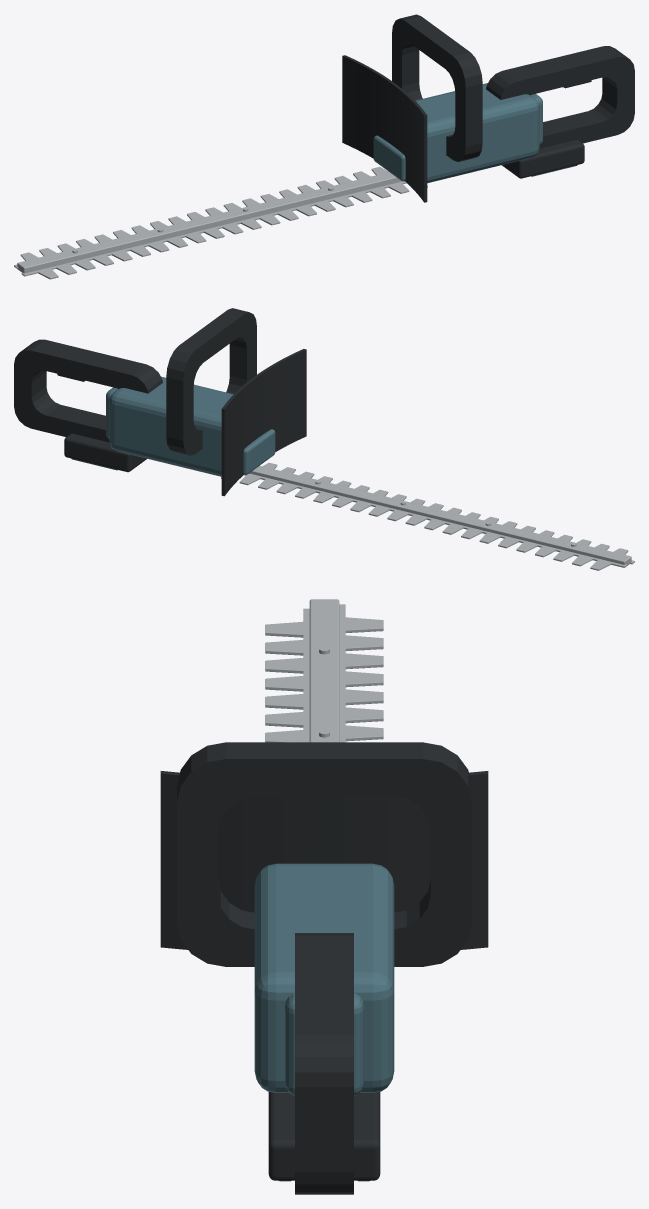
File: full.glb
3 views of the same model, one above another, from view 1: azimuth 30°, elevation 25°; view 2: azimuth 150°, elevation 25°; view 3: azimuth 270°, elevation 25° (orthographic). The views are drawn at different scales.
Parts seen in each view (by area): view 1: Rear axial loop trigger grip, Curved front hand protection plate, Compact rear motor body, Transverse wrap front handle, Long central blade spine, Static toothed blade strip -1, Static toothed blade strip 1, Generic empty rear coupling, Handguard mounting root; view 2: Rear axial loop trigger grip, Curved front hand protection plate, Compact rear motor body, Transverse wrap front handle, Long central blade spine, Static toothed blade strip 1, Generic empty rear coupling, Static toothed blade strip -1, Handguard mounting root; view 3: Transverse wrap front handle, Curved front hand protection plate, Compact rear motor body, Rear axial loop trigger grip, Generic empty rear coupling, Static toothed blade strip 1, Static toothed blade strip -1, Long central blade spine, Rear grip mounting neck.
Part boxes in pixels (x1,y1,x2,y2): Rear axial loop trigger grip: (486,46,634,148); Curved front hand protection plate: (342,55,427,202); Compact rear motor body: (415,83,539,183); Transverse wrap front handle: (392,14,482,161); Long central blade spine: (17,172,401,273); Static toothed blade strip -1: (21,181,427,279); Static toothed blade strip 1: (14,167,388,268); Generic empty rear coupling: (502,140,584,178); Handguard mounting root: (373,135,405,181); Rear axial loop trigger grip: (14,339,162,442); Curved front hand protection plate: (221,349,306,496); Compact rear motor body: (109,376,233,476); Transverse wrap front handle: (166,308,256,455); Long central blade spine: (249,465,631,566); Static toothed blade strip 1: (221,473,627,570); Generic empty rear coupling: (64,433,146,472); Static toothed blade strip -1: (262,462,634,564); Handguard mounting root: (243,429,275,474); Transverse wrap front handle: (177,742,471,966); Curved front hand protection plate: (160,771,488,949); Compact rear motor body: (254,863,394,1092); Rear axial loop trigger grip: (295,933,353,1194); Generic empty rear coupling: (268,1092,380,1180); Static toothed blade strip 1: (339,604,383,742); Static toothed blade strip -1: (265,608,309,742); Long central blade spine: (309,599,339,742); Rear grip mounting neck: (285,993,363,1095).
Bounding box in the file's own units: 0.8568 × 0.2055 × 0.2.
